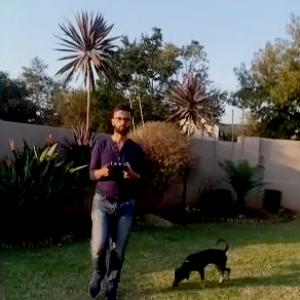follow: (83, 101, 148, 299)
null: (170, 236, 232, 292)
